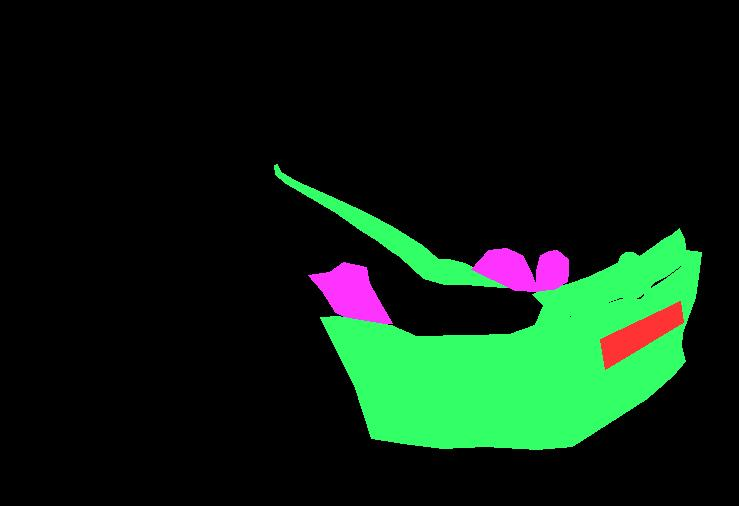Broken part: (320, 250, 701, 449), (274, 164, 517, 288), (532, 228, 688, 324)
Dent: (308, 262, 392, 323), (471, 248, 538, 291), (536, 250, 568, 290)
Missing part: (600, 301, 683, 369)
